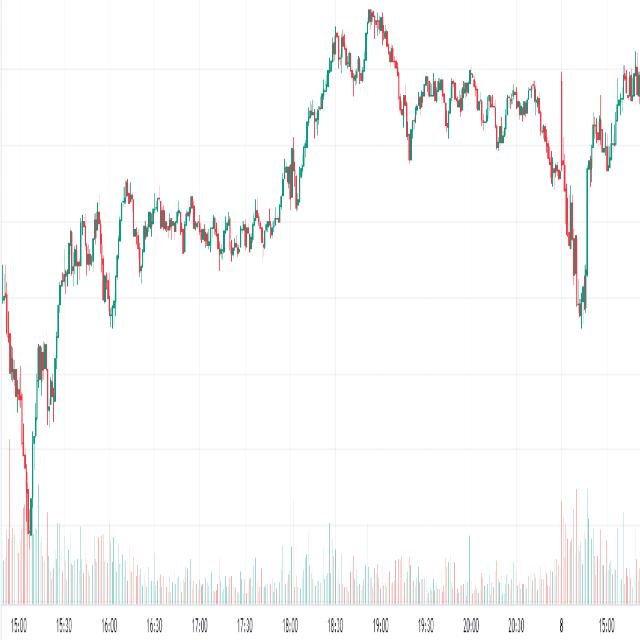Inverse-Head-Shoulders: (535, 98, 617, 329)
Rising-Wedge: (97, 178, 178, 396)
